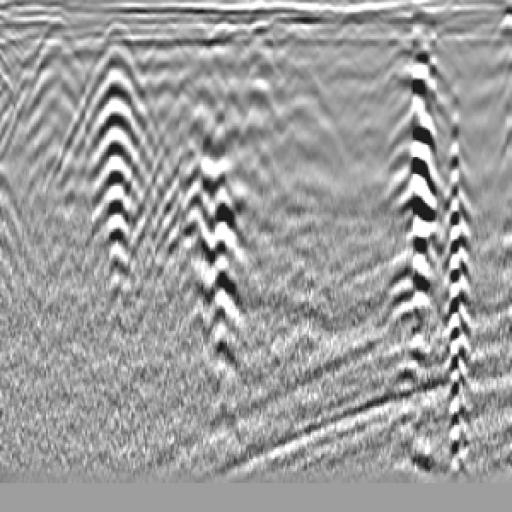metalic: (236, 60, 343, 244)
